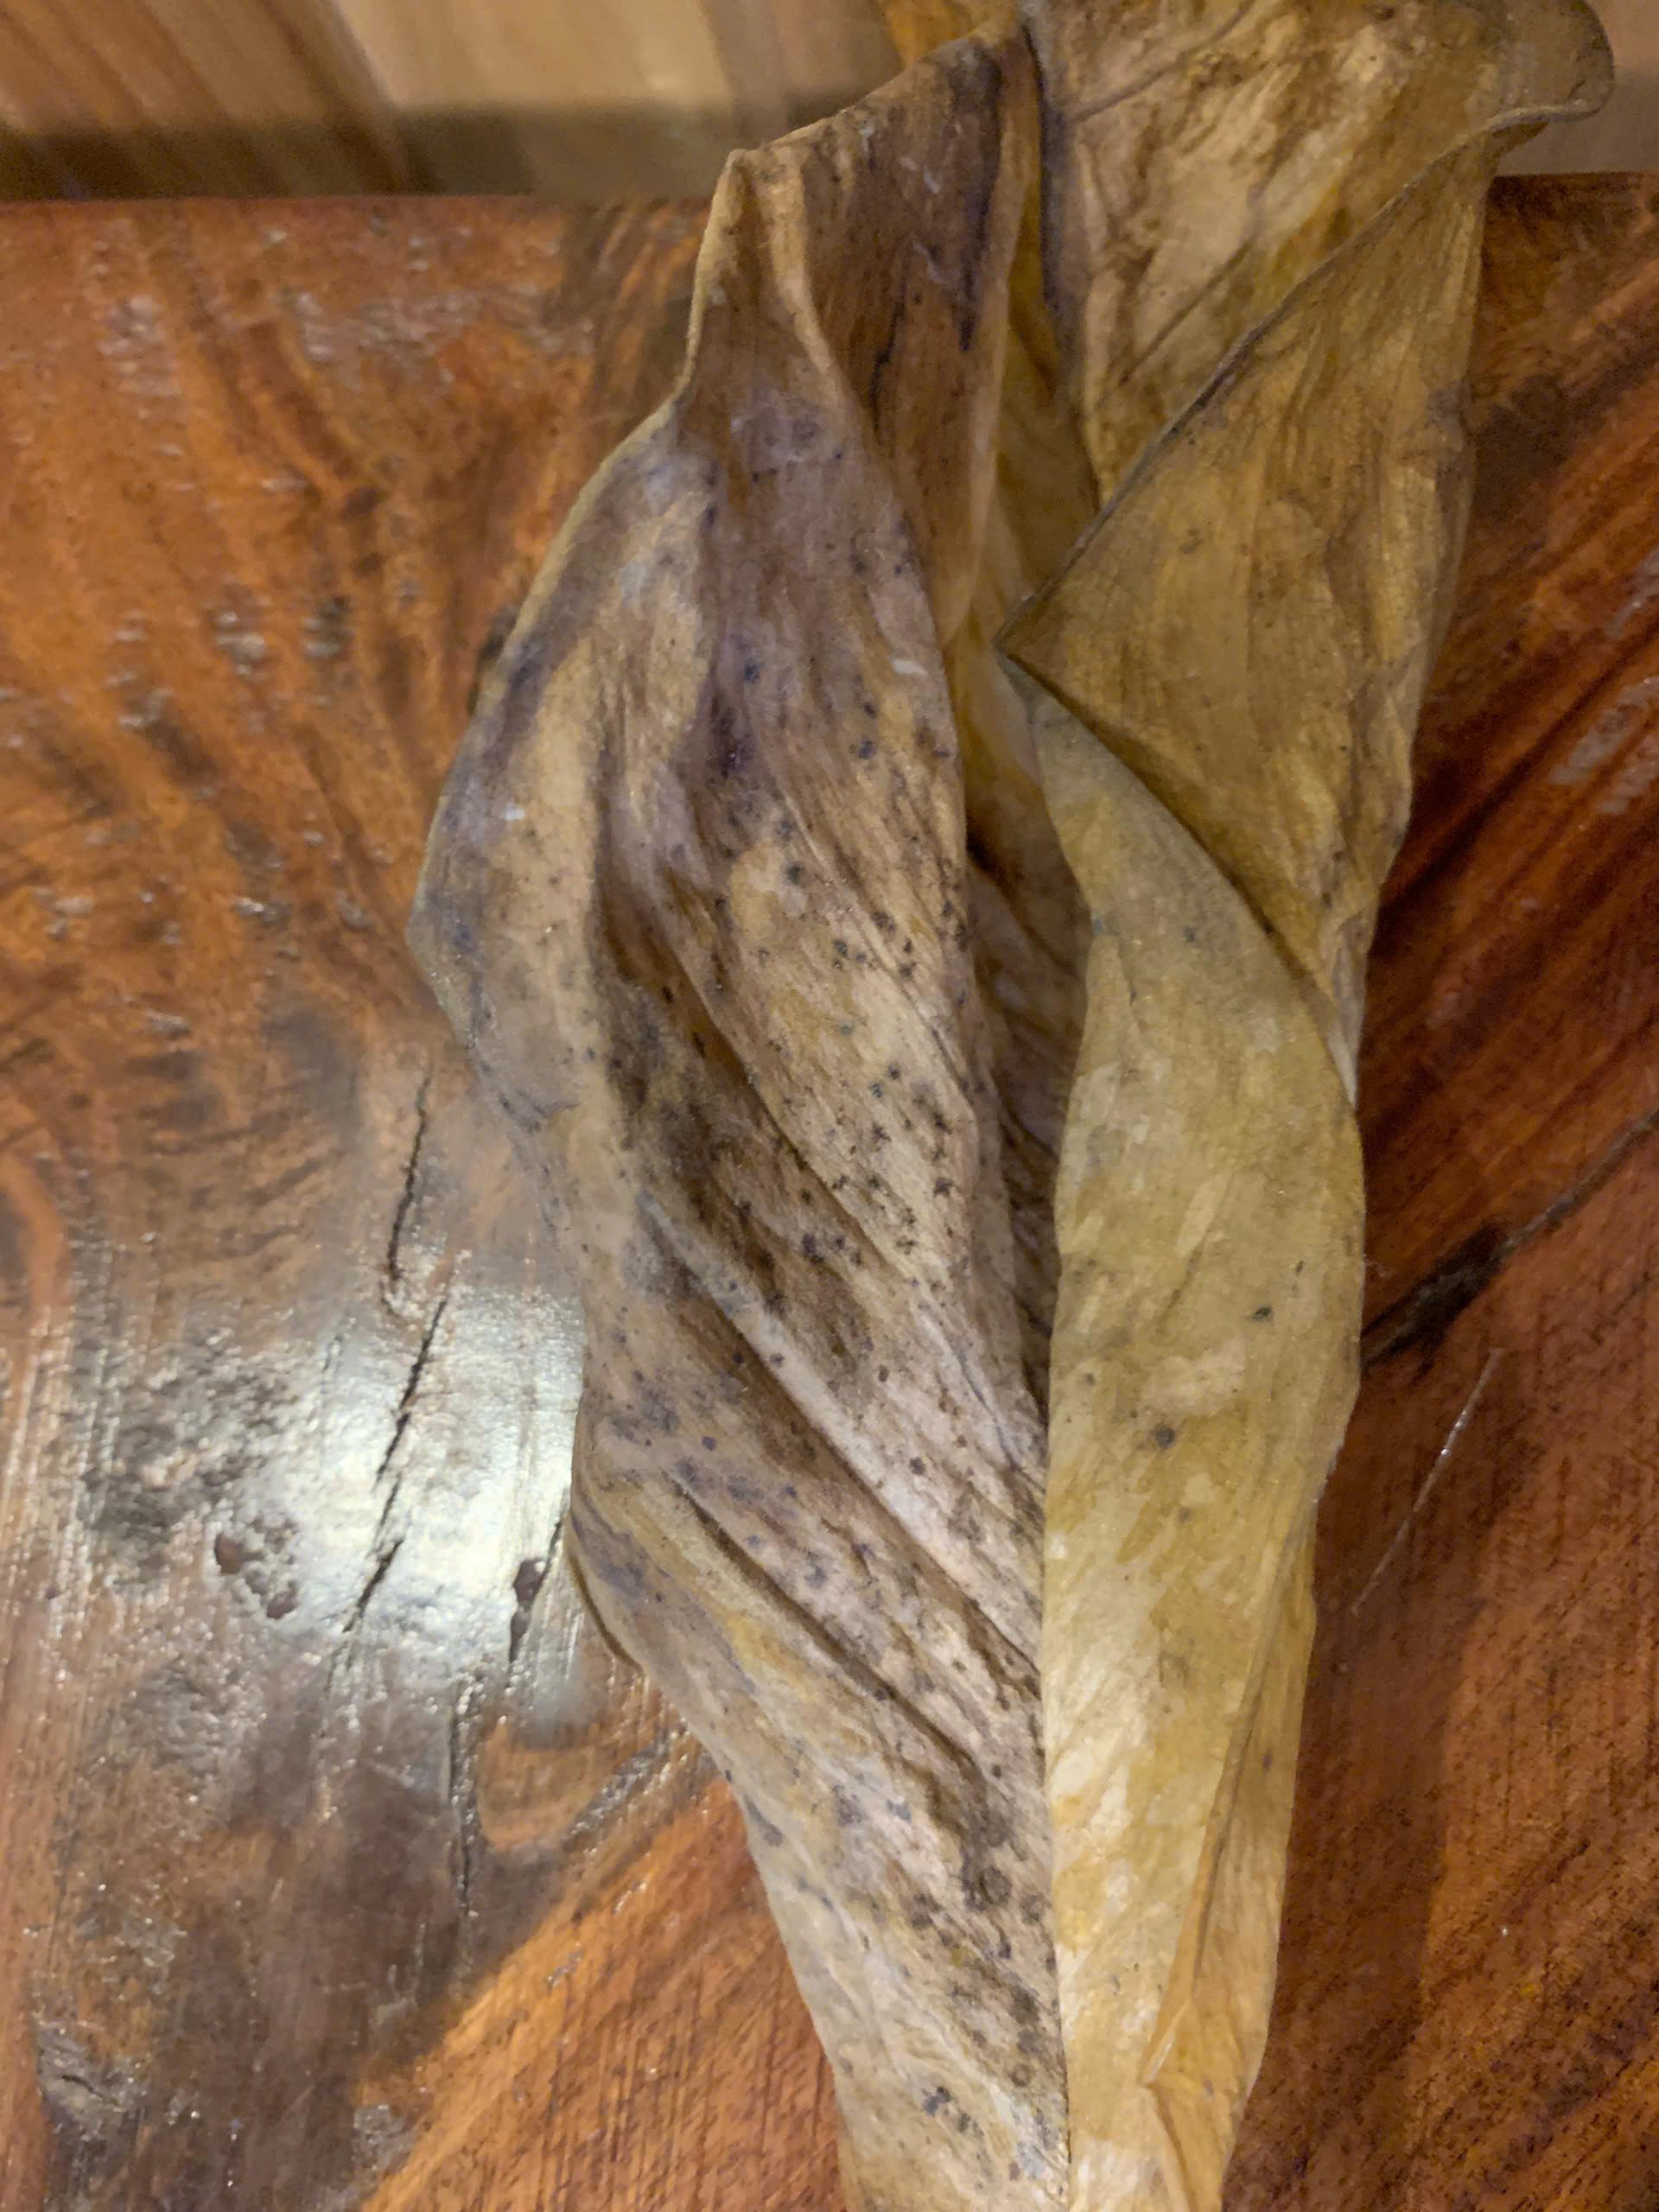Huu co: (519, 17, 1504, 2193)
